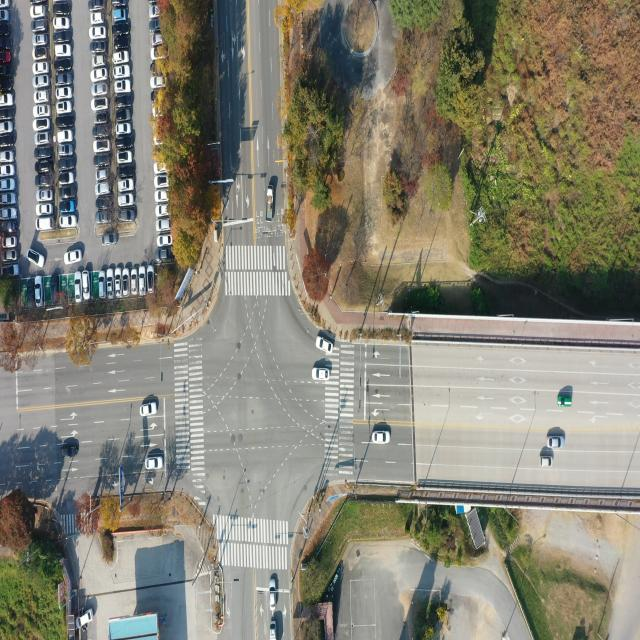car: (76, 609, 94, 632), (24, 250, 42, 270), (316, 338, 332, 356), (114, 38, 131, 54), (53, 56, 72, 70), (313, 367, 330, 381), (66, 250, 83, 264), (36, 217, 53, 231), (140, 404, 157, 418), (373, 431, 391, 444), (53, 29, 72, 41), (57, 115, 72, 130), (150, 45, 164, 61), (146, 457, 163, 470), (62, 446, 79, 459), (35, 160, 52, 173), (74, 274, 82, 301), (113, 52, 128, 66), (112, 8, 127, 22), (61, 215, 77, 228), (548, 438, 564, 451), (116, 150, 132, 163), (58, 131, 74, 144), (56, 44, 72, 57), (57, 102, 73, 115), (114, 82, 130, 95), (55, 17, 71, 30), (60, 202, 76, 215), (61, 186, 77, 199), (36, 175, 52, 188), (158, 249, 174, 262), (112, 24, 128, 37), (0, 210, 17, 222), (57, 74, 74, 86), (115, 96, 132, 108), (269, 579, 276, 608), (0, 96, 14, 110), (52, 274, 59, 302), (107, 270, 114, 298), (0, 108, 14, 122), (0, 179, 15, 192), (60, 173, 75, 186), (95, 140, 110, 153), (34, 118, 50, 130), (58, 90, 74, 102), (0, 195, 16, 207), (36, 205, 52, 217), (119, 180, 135, 192), (120, 210, 136, 222), (35, 147, 51, 159), (34, 106, 50, 118), (83, 273, 90, 300), (96, 212, 110, 225), (34, 75, 48, 88), (94, 69, 108, 82), (103, 235, 117, 248), (33, 47, 47, 60), (0, 151, 15, 163), (114, 67, 129, 79), (0, 166, 15, 178), (92, 27, 107, 39), (94, 99, 109, 111), (34, 62, 49, 74), (118, 196, 133, 208), (37, 189, 52, 201), (35, 134, 50, 146), (116, 109, 131, 121), (92, 41, 107, 53), (558, 395, 573, 407), (1, 264, 19, 274), (61, 157, 76, 169), (0, 137, 15, 149), (55, 4, 71, 15), (34, 277, 40, 306), (116, 138, 133, 148), (32, 5, 45, 18), (34, 92, 48, 104), (33, 34, 47, 46), (159, 236, 173, 248), (94, 86, 108, 98), (156, 177, 170, 189), (60, 145, 74, 157), (3, 237, 17, 249), (96, 156, 110, 168), (97, 199, 111, 211), (32, 21, 46, 33), (94, 126, 108, 138), (0, 36, 12, 50), (141, 269, 147, 297), (115, 125, 130, 136), (148, 267, 154, 294), (98, 272, 104, 299), (115, 269, 121, 296), (132, 269, 138, 296), (0, 124, 13, 136), (97, 183, 110, 195), (0, 52, 12, 65), (158, 220, 171, 232), (92, 12, 105, 24), (150, 76, 163, 88), (93, 56, 106, 68), (94, 114, 107, 126), (122, 270, 128, 296), (0, 66, 12, 79), (0, 79, 12, 92), (91, 0, 105, 11), (2, 250, 17, 260), (157, 190, 169, 202), (158, 206, 170, 218), (0, 24, 10, 38), (118, 166, 133, 175), (540, 457, 552, 468), (156, 164, 168, 175), (151, 34, 162, 46), (148, 5, 158, 18), (0, 9, 10, 21), (149, 21, 159, 33), (97, 171, 109, 181), (111, 0, 126, 7), (0, 0, 10, 9), (31, 0, 45, 5)
small_truck: (266, 185, 276, 221), (0, 221, 16, 233), (270, 621, 276, 640)
